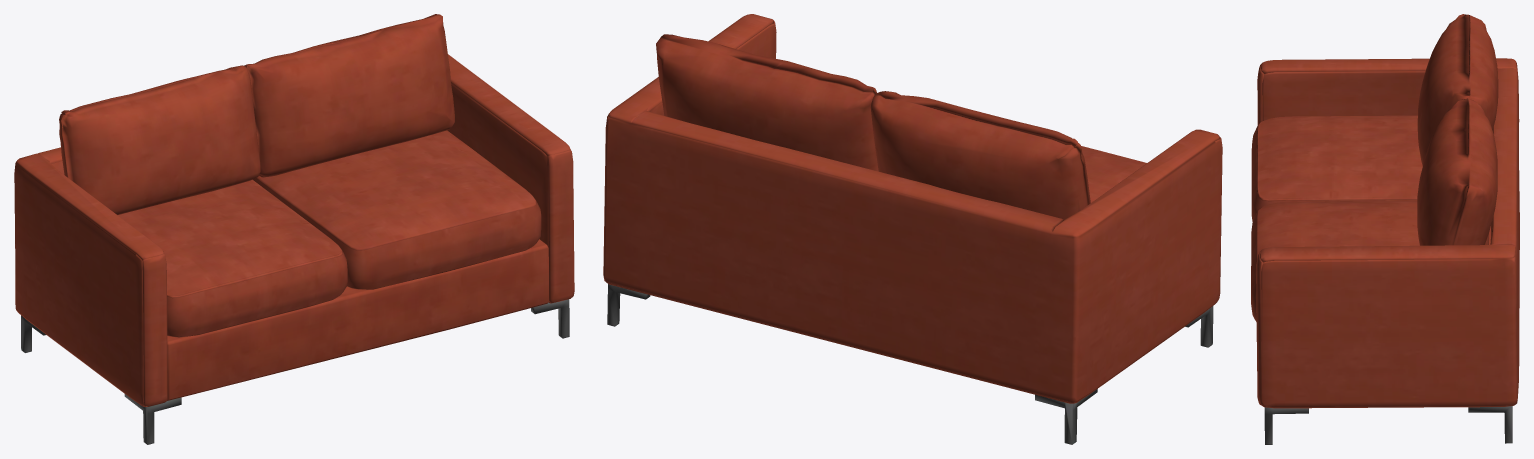
File: abo-B07B4NVYM9.glb
The picture shows the model from 3 angles, left to right: view 1: azimuth 30°, elevation 25°; view 2: azimuth 150°, elevation 25°; view 3: azimuth 270°, elevation 25°; orthographic projection. The views are drawn at different scales.
Visible parts, largest first — view 1: RootNode; view 2: RootNode; view 3: RootNode.
Boxes of the visible parts, left/top/right/bottom form: RootNode: left=14, top=14, right=574, bottom=444; RootNode: left=603, top=14, right=1222, bottom=444; RootNode: left=1251, top=14, right=1519, bottom=444.
Bounding box in the file's own units: 1.57 × 0.894 × 0.8637.
1 material, 1 textured.
